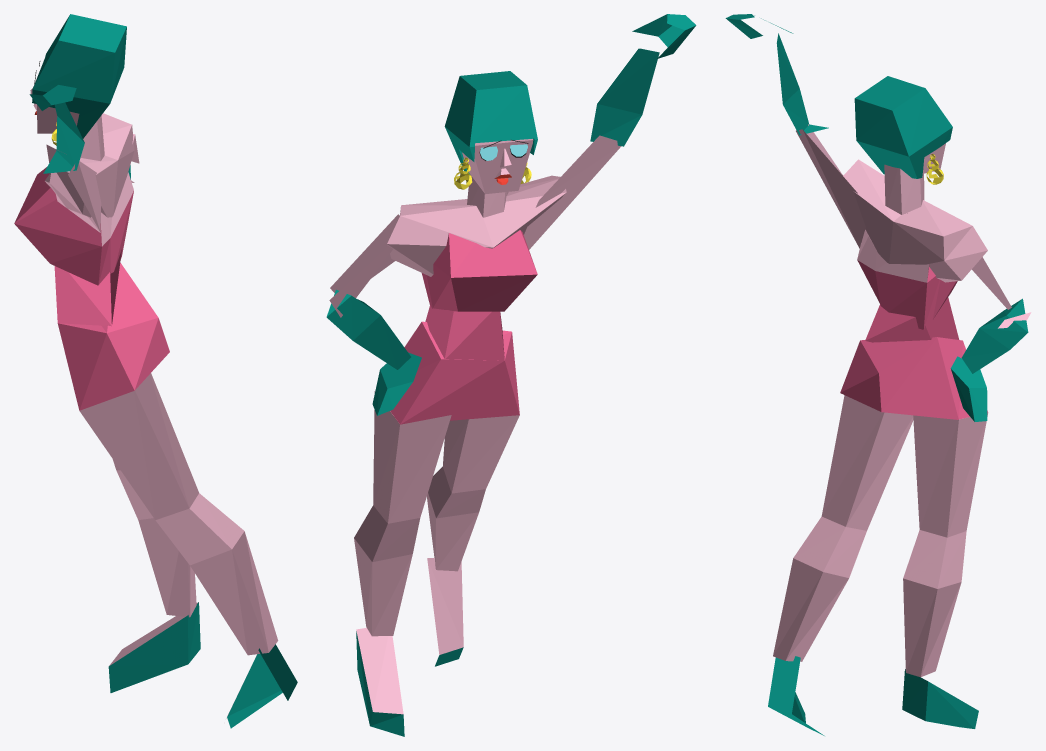
The model's file is scene_DKVVq92HRP.glb.
3 renders of one model, left to right at view 1: azimuth 30°, elevation 25°; view 2: azimuth 150°, elevation 25°; view 3: azimuth 270°, elevation 25°, orthographic. The views are drawn at different scales.
Parts seen in each view (by area): view 1: Node; view 2: Node; view 3: Node.
Part boxes in pixels (x1=…): Node: x1=14, y1=14, x2=297, y2=728; Node: x1=326, y1=14, x2=696, y2=736; Node: x1=725, y1=14, x2=1031, y2=735.
Bounding box in the file's own units: 0.9815 × 2.47 × 1.07.
